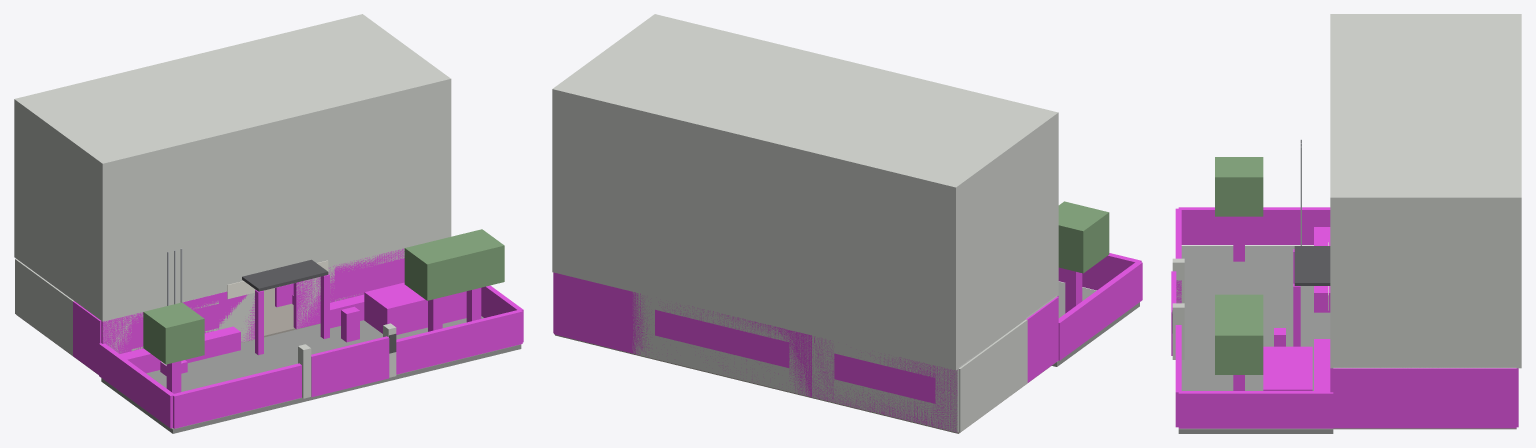
Rendered from prologue_gate_blockout.glb.
The picture shows the model from 3 angles, left to right: view 1: azimuth 30°, elevation 25°; view 2: azimuth 150°, elevation 25°; view 3: azimuth 270°, elevation 25°; orthographic projection. The views are drawn at different scales.
Parts seen in each view (by area): view 1: upper, yard.001, col_fence_s_0.001, col_fence_s_1.001, col_facade_3, col_gate_stop.001, admin_ww_s0, col_car0.001, tree0_crown.001, tree1_crown.001, col_facade_1.001, col_fence_w_0.001 (+16 smaller); view 2: upper, col_staff_wn_1, col_admin_wn_1, col_stair_wn_0, admin_ww_s0, col_fence_w_0.001, staff_wn_sill0, tree0_crown.001, admin_wn_sill0, col_hall_ww_0, staff_wn_head0, admin_wn_s0 (+7 smaller); view 3: upper, yard.001, col_stair_we_0, col_fence_e_0.001, col_fence_w_0.001, col_hall_we_0, tree0_crown.001, tree2_crown.001, col_car0.001, porch, tree1_crown.001, col_bed_e.001 (+7 smaller).
Boxes of the visible parts, left/top/right/bottom form: upper: left=14, top=14, right=451, bottom=321; yard.001: left=101, top=316, right=521, bottom=433; col_fence_s_0.001: left=172, top=363, right=301, bottom=428; col_fence_s_1.001: left=396, top=309, right=522, bottom=374; col_facade_3: left=293, top=248, right=404, bottom=329; col_gate_stop.001: left=311, top=336, right=389, bottom=396; admin_ww_s0: left=15, top=258, right=73, bottom=355; col_car0.001: left=364, top=282, right=466, bottom=334; tree0_crown.001: left=143, top=302, right=204, bottom=364; tree1_crown.001: left=404, top=238, right=465, bottom=300; col_facade_1.001: left=101, top=291, right=254, bottom=353; col_fence_w_0.001: left=99, top=343, right=174, bottom=428; upper: left=552, top=14, right=1058, bottom=370; col_staff_wn_1: left=632, top=291, right=811, bottom=397; col_admin_wn_1: left=812, top=336, right=957, bottom=432; col_stair_wn_0: left=554, top=272, right=632, bottom=353; admin_ww_s0: left=958, top=319, right=1027, bottom=432; col_fence_w_0.001: left=1058, top=262, right=1142, bottom=360; staff_wn_sill0: left=655, top=335, right=789, bottom=391; tree0_crown.001: left=1058, top=201, right=1109, bottom=273; admin_wn_sill0: left=834, top=379, right=935, bottom=426; col_hall_ww_0: left=1026, top=296, right=1058, bottom=382; staff_wn_head0: left=655, top=297, right=789, bottom=341; admin_wn_s0: left=935, top=366, right=958, bottom=432; upper: left=1330, top=14, right=1521, bottom=368; yard.001: left=1178, top=245, right=1333, bottom=433; col_stair_we_0: left=1391, top=368, right=1516, bottom=428; col_fence_e_0.001: left=1178, top=391, right=1333, bottom=428; col_fence_w_0.001: left=1178, top=207, right=1330, bottom=244; col_hall_we_0: left=1333, top=368, right=1391, bottom=428; tree0_crown.001: left=1215, top=157, right=1263, bottom=216; tree2_crown.001: left=1215, top=315, right=1263, bottom=374; col_car0.001: left=1263, top=346, right=1312, bottom=390; porch: left=1294, top=246, right=1330, bottom=285; tree1_crown.001: left=1215, top=294, right=1263, bottom=314; col_bed_e.001: left=1314, top=339, right=1330, bottom=390.
Bounding box in the file's own units: 18.25 × 10.8 × 14.5.
